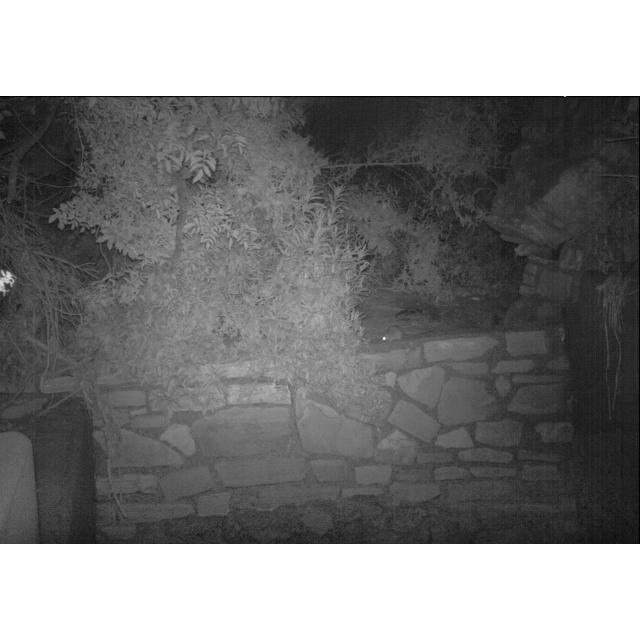animals: (378, 322, 434, 348)
